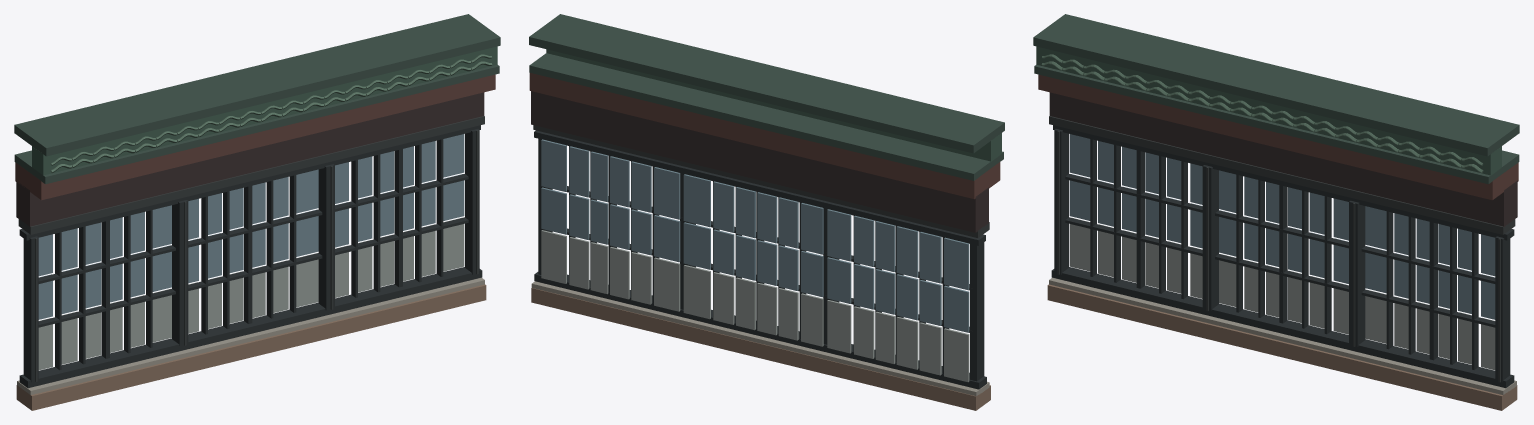
File: yangpu-pingliang-629-upper-window-band-lod.glb
3 renders of one model, left to right at view 1: azimuth 30°, elevation 25°; view 2: azimuth 150°, elevation 25°; view 3: azimuth 330°, elevation 25°, orthographic. The views are drawn at different scales.
Parts seen in each view (by area): view 1: 平凉路629号临街二层钢窗与绿色檐饰; view 2: 平凉路629号临街二层钢窗与绿色檐饰; view 3: 平凉路629号临街二层钢窗与绿色檐饰.
Boxes of the visible parts, x1,y1,x2,y2 form: 平凉路629号临街二层钢窗与绿色檐饰: [14, 14, 500, 410]; 平凉路629号临街二层钢窗与绿色檐饰: [529, 14, 1004, 410]; 平凉路629号临街二层钢窗与绿色檐饰: [1033, 14, 1519, 410].
Bounding box in the file's own units: 4.19 × 2.4 × 0.51.
